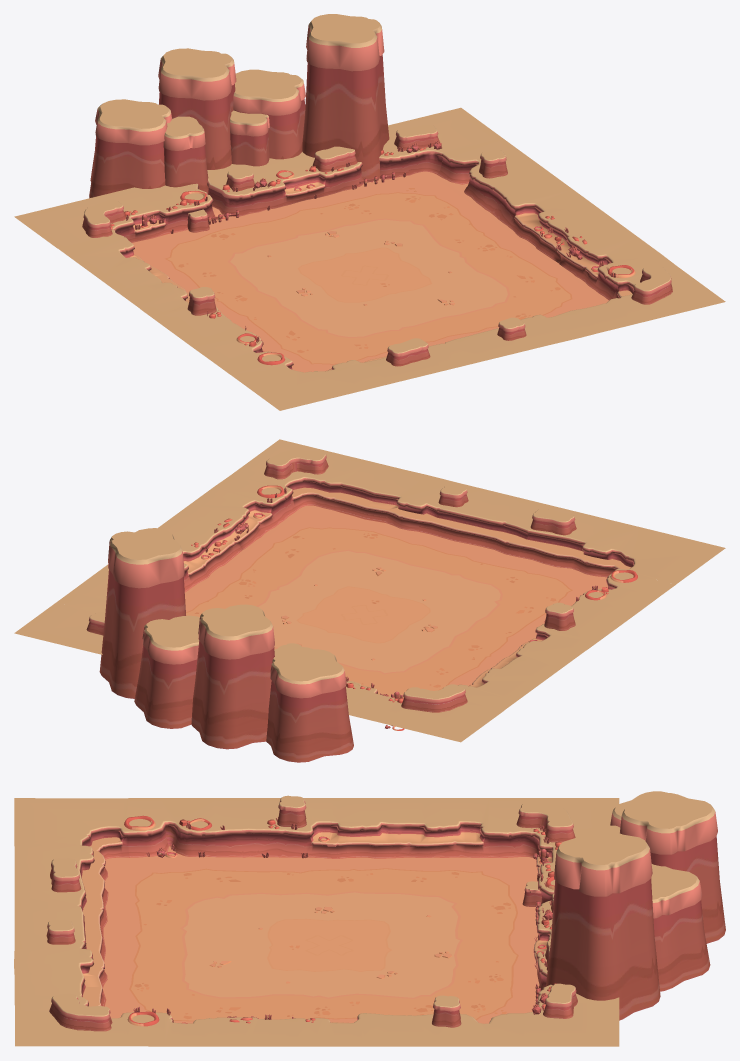
File: Envi1.fbx
The picture shows the model from 3 angles, top to bottom: view 1: azimuth 30°, elevation 25°; view 2: azimuth 150°, elevation 25°; view 3: azimuth 270°, elevation 25°; orthographic projection. The views are drawn at different scales.
Visible parts, largest first — view 1: Walls, Floor, BG Pillar1.001, BG Pillar1.005, BG Pillar1.004, BG Pillar1.006, BG Pillar1.002, BG Pillar1.003; view 2: Walls, Floor, BG Pillar1.004, BG Pillar1.001, BG Pillar1.005, BG Pillar1.006; view 3: Walls, Floor, BG Pillar1.001, BG Pillar1.004, BG Pillar1.006, BG Pillar1.005.
Part boxes in pixels (bbox=[...]): Walls: bbox=[14, 107, 725, 410]; Floor: bbox=[132, 171, 608, 372]; BG Pillar1.001: bbox=[302, 14, 389, 180]; BG Pillar1.005: bbox=[89, 99, 172, 198]; BG Pillar1.004: bbox=[158, 48, 236, 169]; BG Pillar1.006: bbox=[233, 69, 305, 159]; BG Pillar1.002: bbox=[163, 116, 208, 193]; BG Pillar1.003: bbox=[230, 110, 269, 166]; Walls: bbox=[14, 439, 725, 742]; Floor: bbox=[184, 505, 607, 698]; BG Pillar1.004: bbox=[191, 604, 274, 749]; BG Pillar1.001: bbox=[99, 528, 185, 698]; BG Pillar1.005: bbox=[266, 649, 353, 762]; BG Pillar1.006: bbox=[134, 615, 199, 728]; Walls: bbox=[14, 795, 619, 1046]; Floor: bbox=[103, 846, 539, 1023]; BG Pillar1.001: bbox=[546, 829, 660, 1020]; BG Pillar1.004: bbox=[620, 793, 725, 943]; BG Pillar1.006: bbox=[651, 864, 710, 991]; BG Pillar1.005: bbox=[610, 791, 667, 827].
Bounding box in the file's own units: 41.21 × 12.22 × 49.86.
